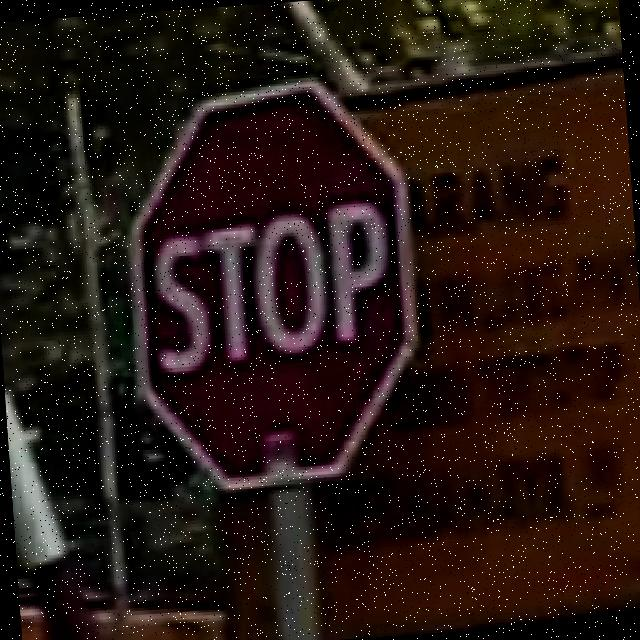Stop: (128, 86, 422, 492)
